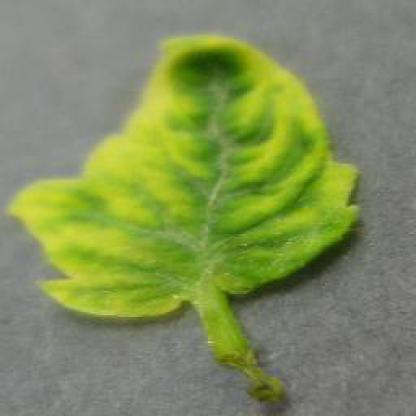bad leaf: (34, 37, 362, 376)
